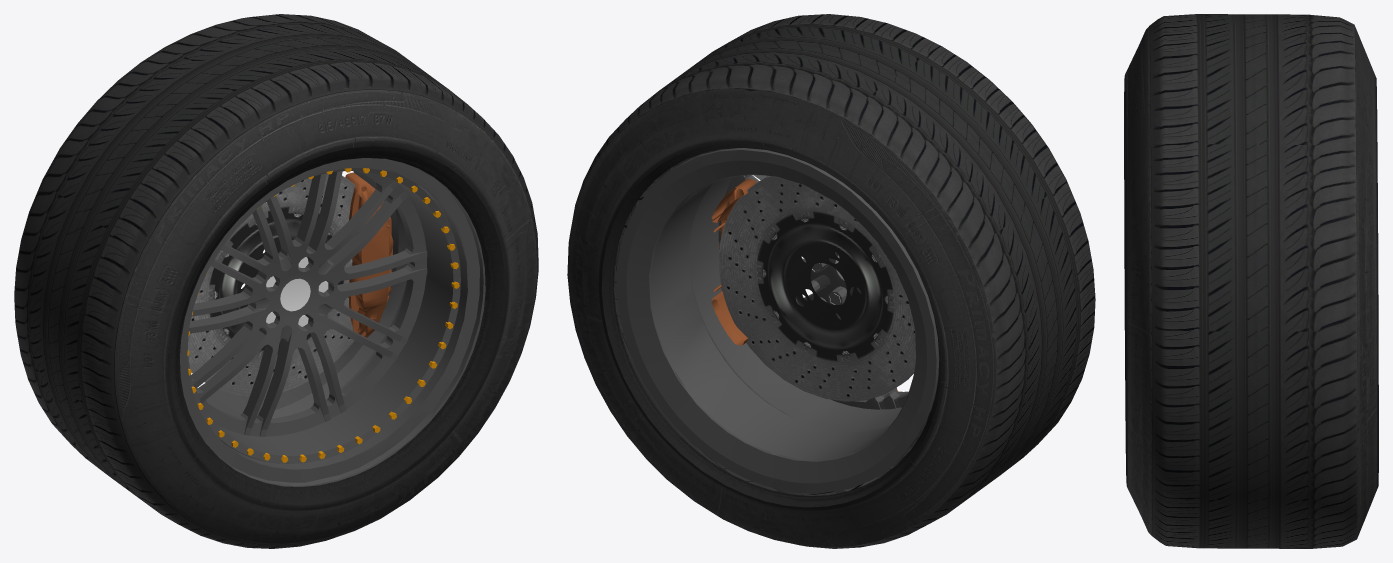
The model's file is Tyre_Type_9.fbx.
3 views of the same model, side by side, from view 1: azimuth 30°, elevation 25°; view 2: azimuth 150°, elevation 25°; view 3: azimuth 270°, elevation 25° (orthographic). The views are drawn at different scales.
Visible parts, largest first — view 1: Rubber, Rim9, Rim, Disc, Caliper, Outer Screws; view 2: Rubber, Rim, Disc, Rim9, Caliper; view 3: Rubber.
Part boxes in pixels (bbox=[...]): Rubber: bbox=[14, 14, 538, 548]; Rim9: bbox=[187, 168, 460, 463]; Rim: bbox=[180, 158, 485, 486]; Disc: bbox=[188, 173, 355, 396]; Caliper: bbox=[345, 172, 393, 337]; Outer Screws: bbox=[187, 168, 459, 462]; Rubber: bbox=[567, 14, 1095, 548]; Rim: bbox=[617, 148, 939, 493]; Disc: bbox=[719, 176, 915, 401]; Rim9: bbox=[718, 175, 908, 409]; Caliper: bbox=[711, 178, 756, 345]; Rubber: bbox=[1124, 14, 1378, 548].
Bounding box in the file's own units: 55.47 × 55.36 × 26.42.
